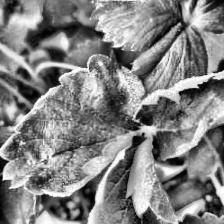Powdery Mildew Leaf: (0, 49, 152, 198), (85, 131, 197, 224), (131, 53, 224, 161), (0, 171, 39, 224)
